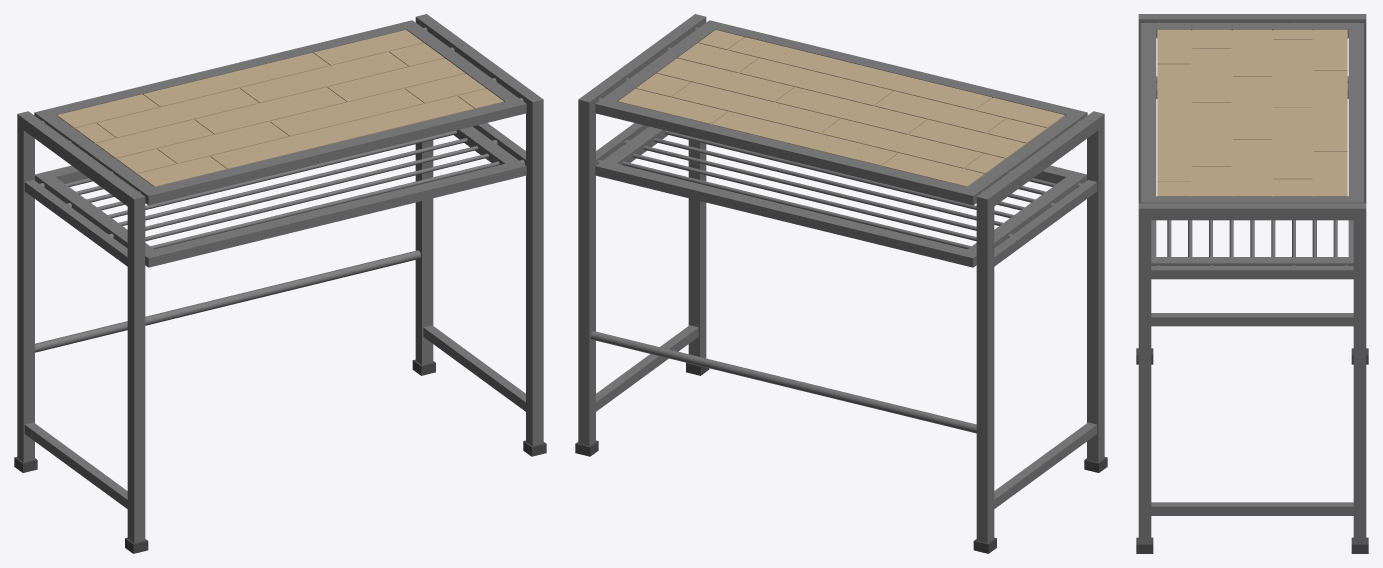
File: 505_デスク.glb
3 renders of one model, left to right at view 1: azimuth 30°, elevation 25°; view 2: azimuth 150°, elevation 25°; view 3: azimuth 270°, elevation 25°, orthographic. The views are drawn at different scales.
Visible parts, largest first — view 1: Body; view 2: Body; view 3: Body.
Part boxes in pixels (x1,y1,x2,y2): Body: (14, 14, 546, 553); Body: (575, 14, 1107, 553); Body: (1136, 14, 1368, 553).
Size of the model in its own units: 0.918 by 0.75 by 0.458.
